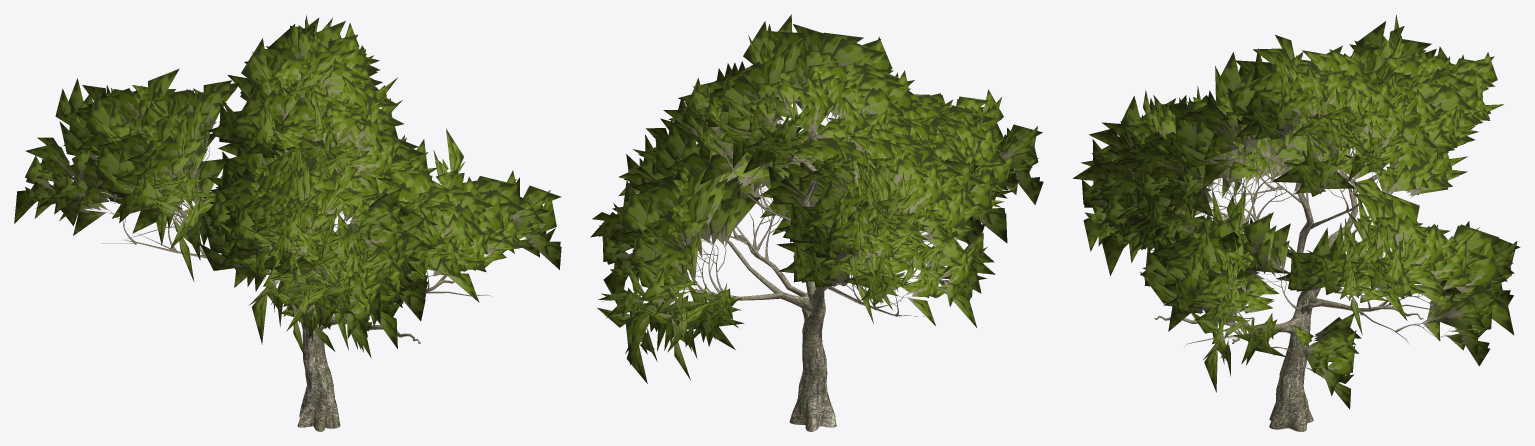
File: oak5.obj
3 views of the same model, side by side, from view 1: azimuth 30°, elevation 25°; view 2: azimuth 150°, elevation 25°; view 3: azimuth 270°, elevation 25° (orthographic). The views are drawn at different scales.
Visible parts, largest first — view 1: oak leaf, mossybark03; view 2: oak leaf, mossybark03; view 3: oak leaf, mossybark03.
Boxes of the visible parts, <box> form: oak leaf: <box>14,15,561,358</box>; mossybark03: <box>51,97,527,431</box>; oak leaf: <box>590,14,1043,383</box>; mossybark03: <box>641,73,943,431</box>; oak leaf: <box>1073,15,1520,409</box>; mossybark03: <box>1154,113,1459,431</box>.
Bounding box in the file's own units: 1064 × 898 × 961.
2 materials, 2 textured.
